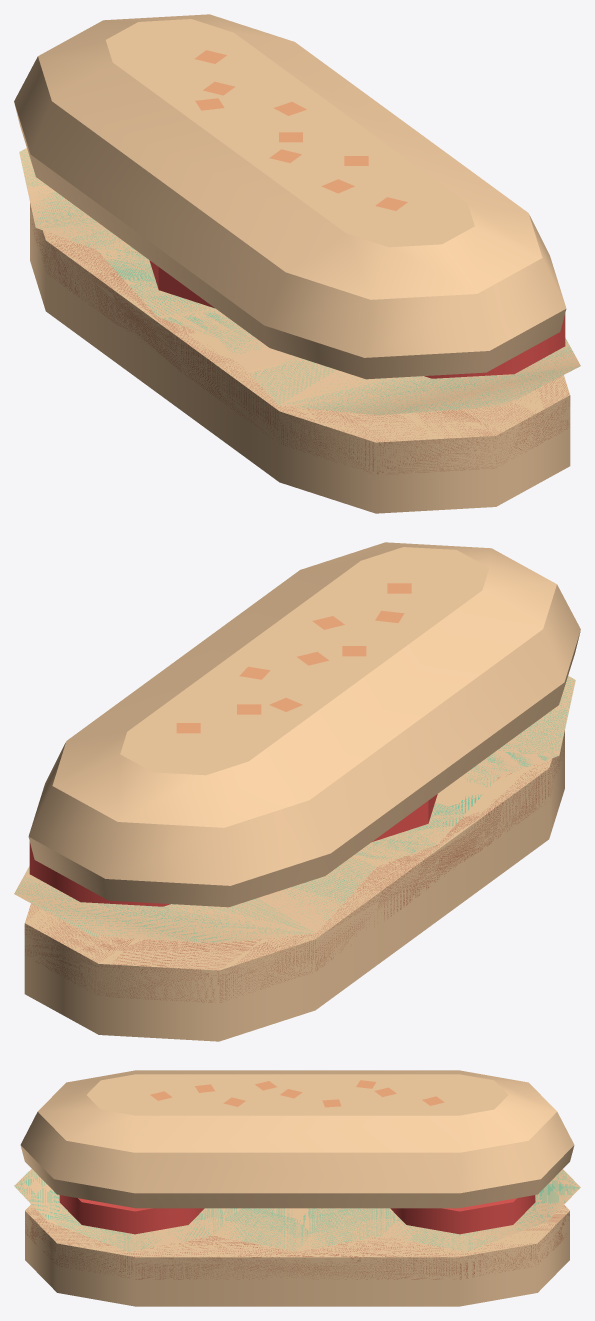
The model's file is BocataLomoYA.fbx.
3 views of the same model, one above another, from view 1: azimuth 30°, elevation 25°; view 2: azimuth 150°, elevation 25°; view 3: azimuth 270°, elevation 25° (orthographic). The views are drawn at different scales.
Visible parts, largest first — view 1: sub; view 2: sub; view 3: sub.
Part boxes in pixels (left/top/right/bottom): sub: left=14, top=14, right=580, bottom=513; sub: left=14, top=542, right=580, bottom=1041; sub: left=14, top=1070, right=580, bottom=1306.
Size of the model in its own units: 9.56 by 7.19 by 22.85.
